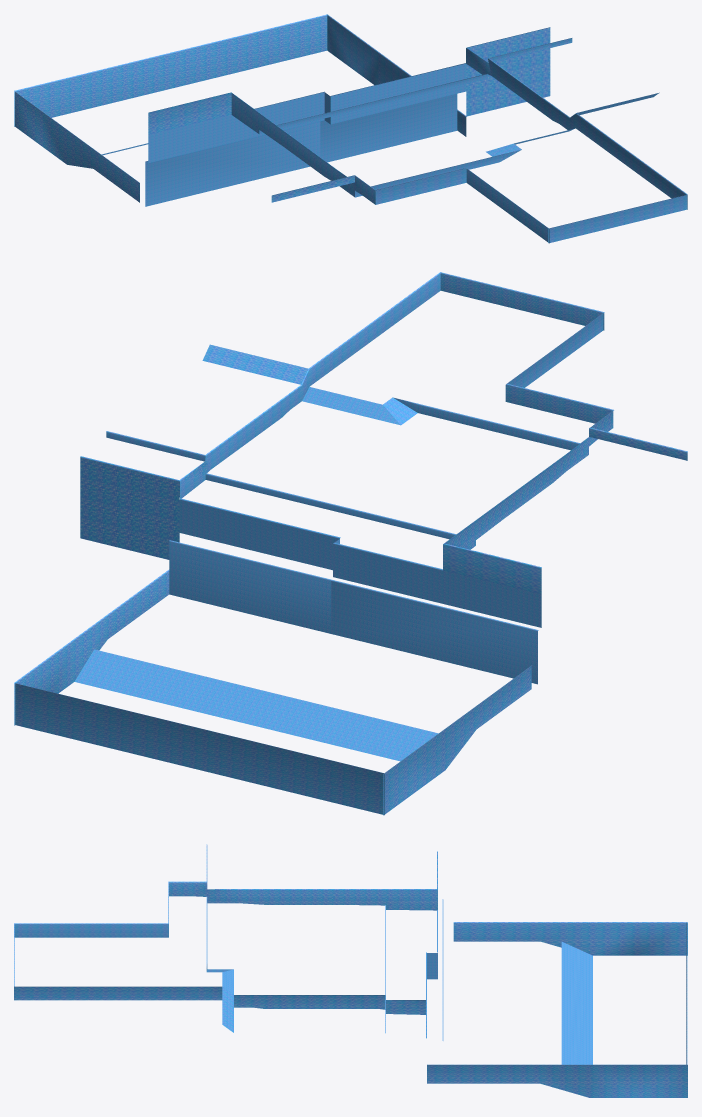
Rendered from FlowingWater.obj.
The picture shows the model from 3 angles, top to bottom: view 1: azimuth 30°, elevation 25°; view 2: azimuth 150°, elevation 25°; view 3: azimuth 270°, elevation 25°; orthographic projection. The views are drawn at different scales.
Size of the model in its own units: 5455 by 1570 by 8595.
Materials: 1 (1 with a texture image).
